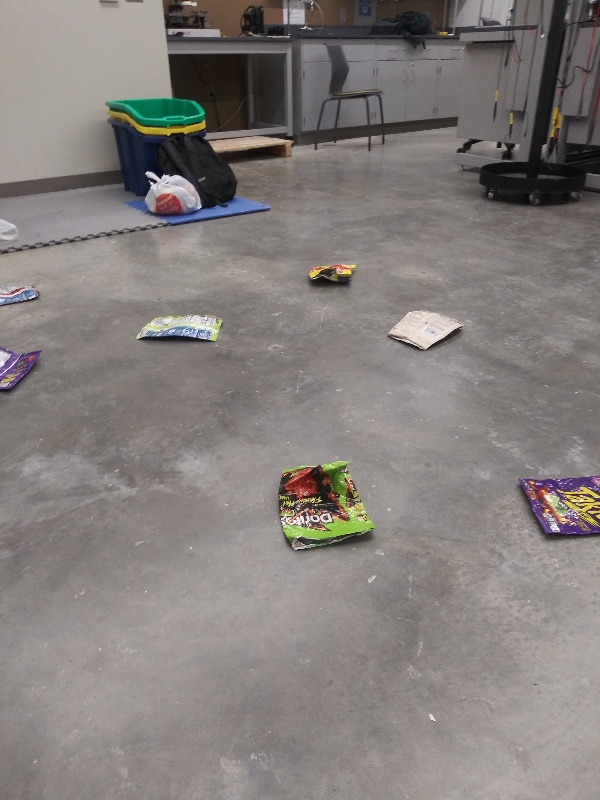bag: (271, 454, 384, 553), (507, 468, 600, 546), (378, 304, 470, 352), (136, 310, 234, 349), (1, 339, 48, 405), (298, 254, 362, 285), (1, 278, 46, 307)
